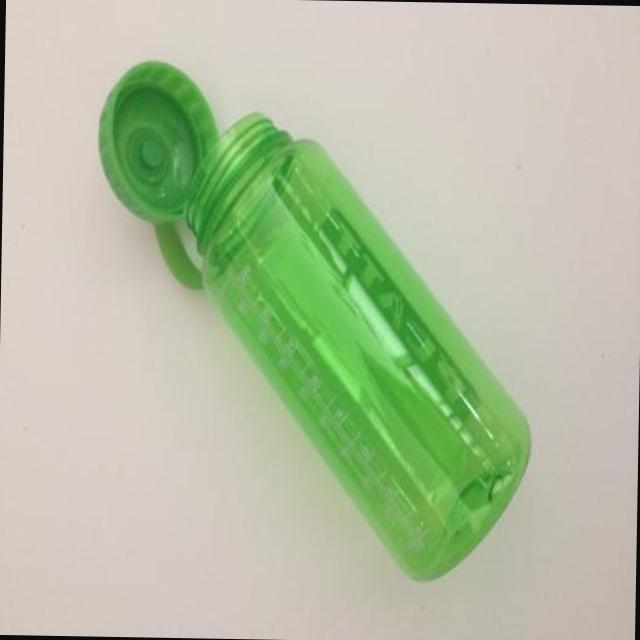Recycle: (92, 59, 540, 586)
